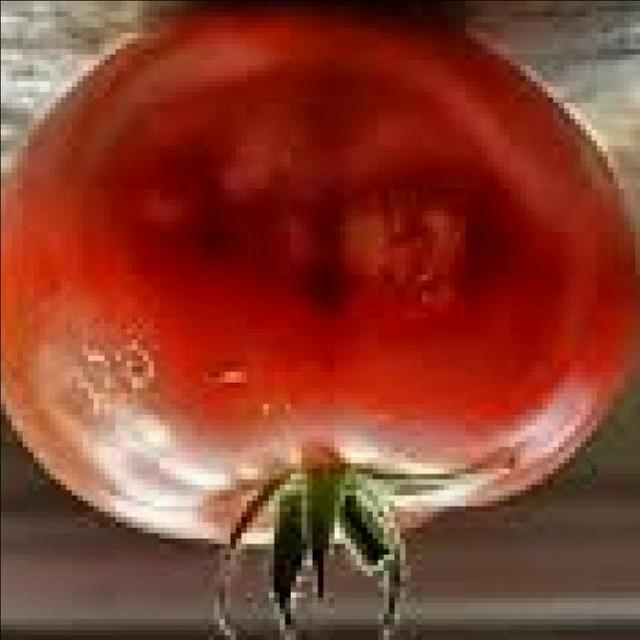Healthy Fruit: (4, 2, 421, 377)
